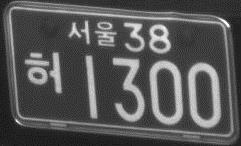0: (187, 61, 223, 129), (148, 60, 185, 125)
1: (82, 53, 104, 120)
3: (110, 56, 146, 122), (123, 21, 144, 53)
8: (148, 22, 172, 55)
서울_O: (67, 18, 119, 49)
허: (23, 50, 63, 94)
